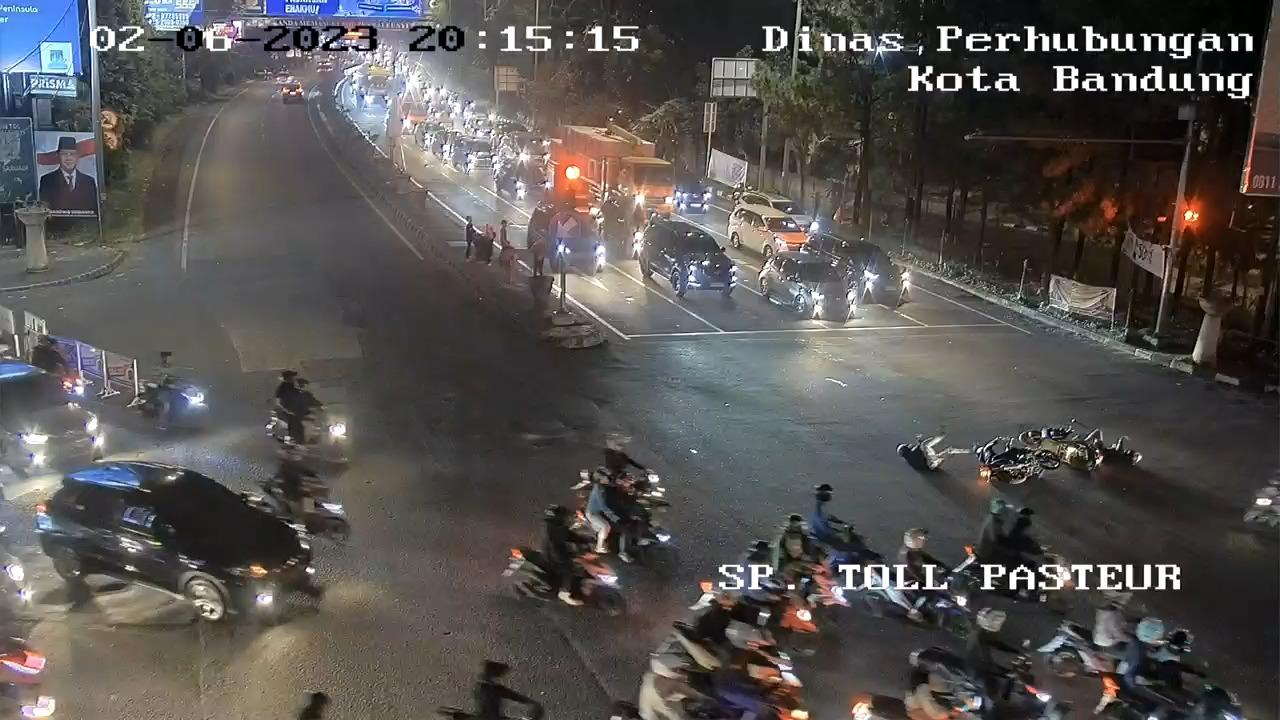accident: (896, 425, 985, 474), (1081, 427, 1143, 466)
